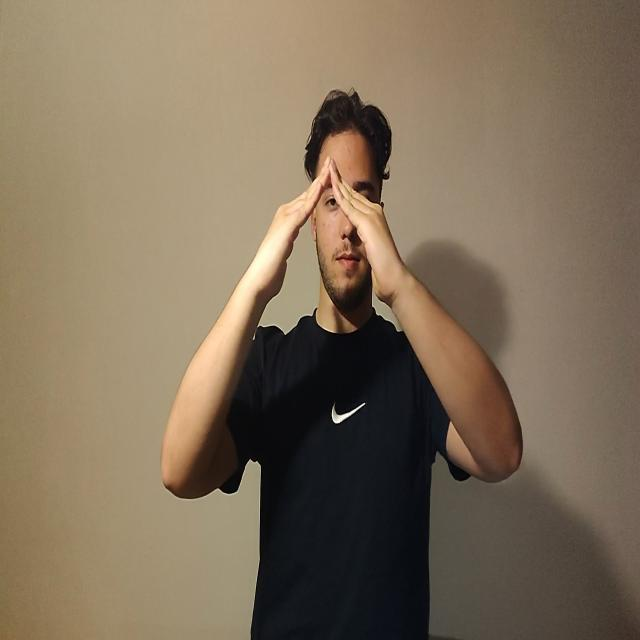house: (250, 154, 401, 301)
